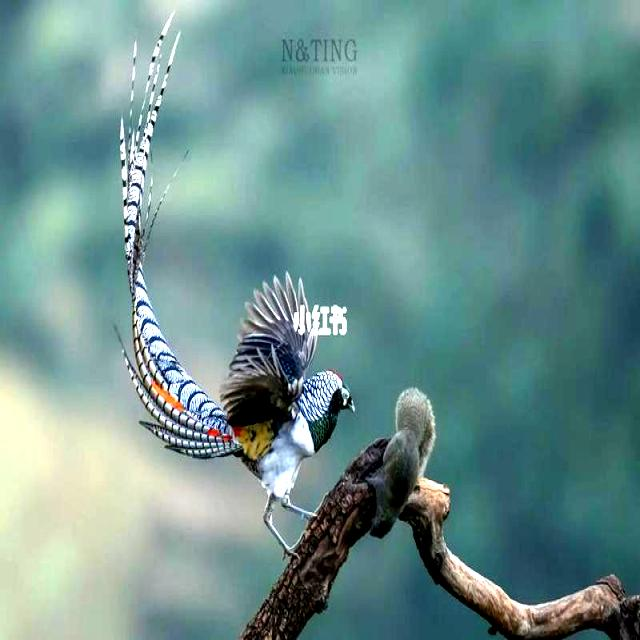Chrysolophus amherstiae: (120, 39, 240, 457)
